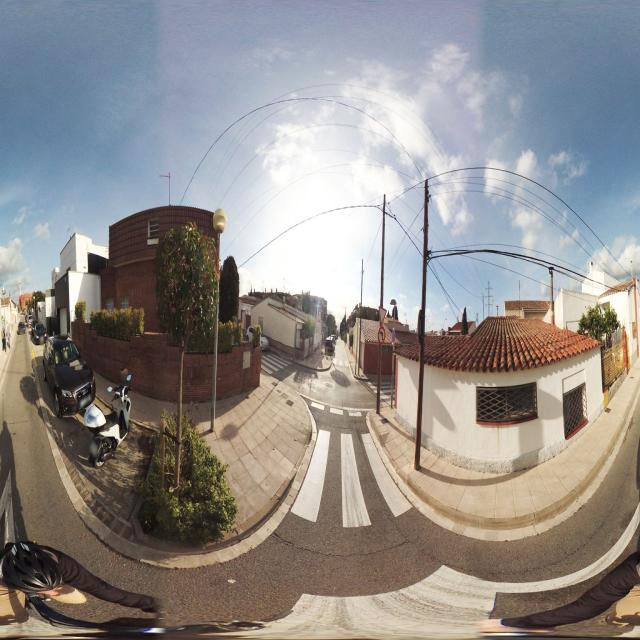forb_stopping: (392, 328, 395, 345)
